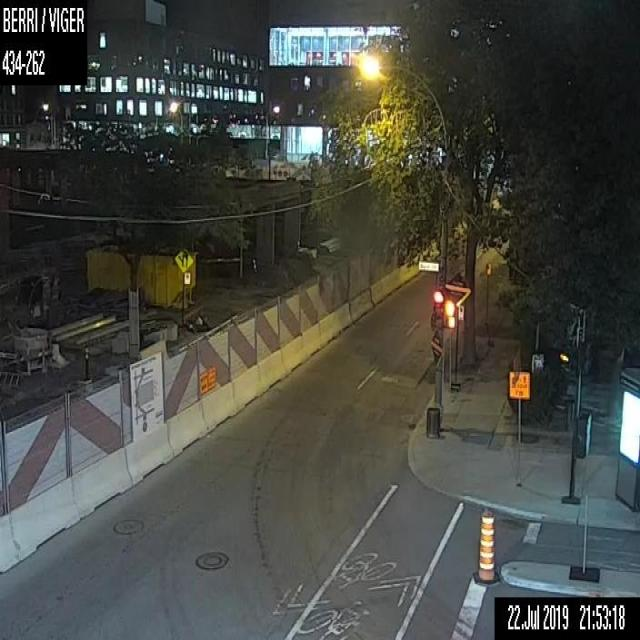construction: (0, 143, 480, 573), (507, 368, 531, 488), (477, 509, 495, 582)
